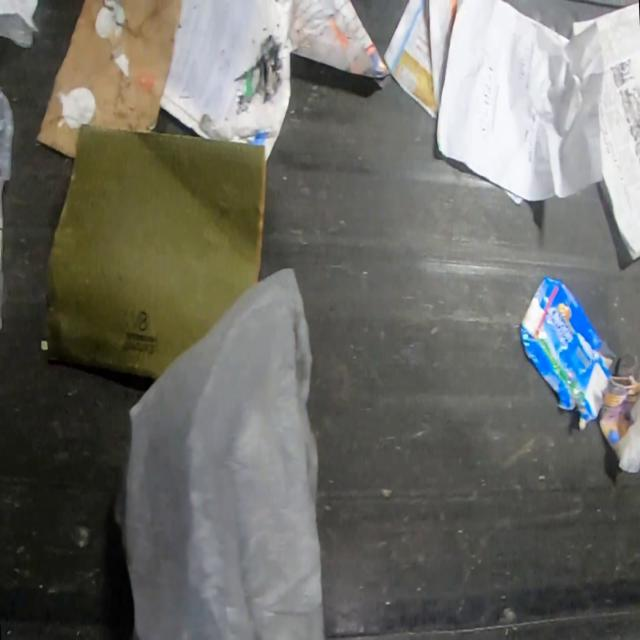cardboard: (42, 124, 269, 382), (37, 1, 182, 161), (516, 277, 618, 433)
rigid_plastic: (0, 90, 13, 308)
soft_plastic: (116, 266, 327, 640)
